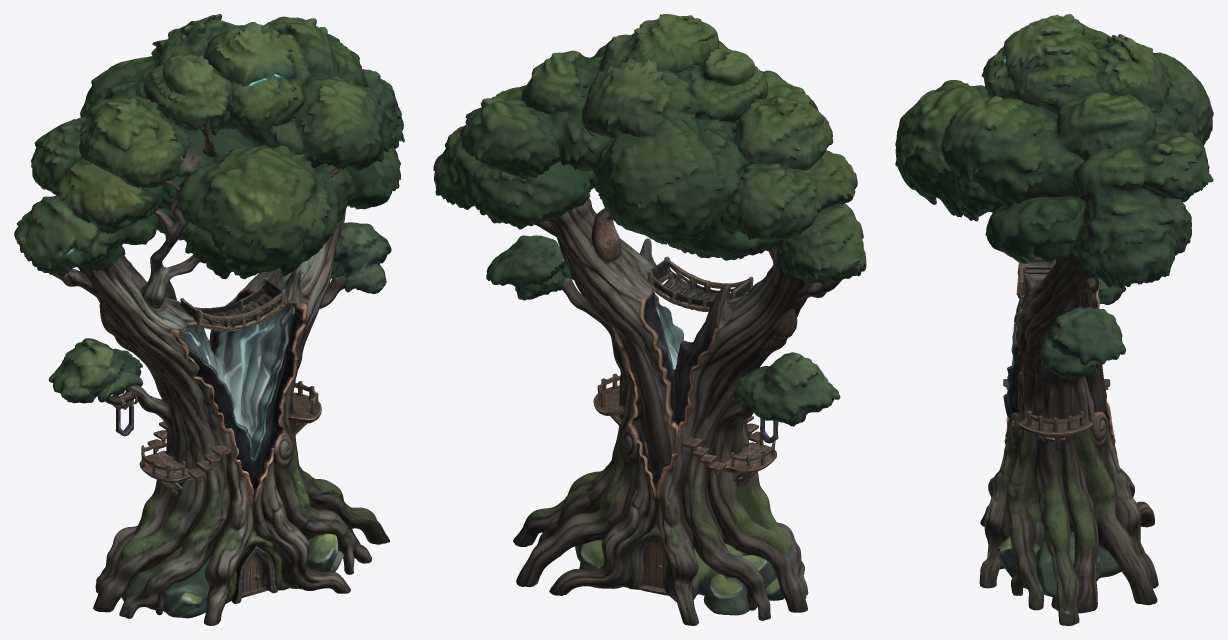
The model's file is stormheart_tree_v2.glb.
3 views of the same model, side by side, from view 1: azimuth 30°, elevation 25°; view 2: azimuth 150°, elevation 25°; view 3: azimuth 270°, elevation 25° (orthographic). The views are drawn at different scales.
Visible parts, largest first — view 1: Mesh_0; view 2: Mesh_0; view 3: Mesh_0.
Boxes of the visible parts, x1,y1,x2,y2 form: Mesh_0: [14, 14, 404, 625]; Mesh_0: [433, 14, 866, 625]; Mesh_0: [895, 14, 1213, 625].
Bounding box in the file's own units: 197 × 260 × 141.
1 material, 1 textured.
